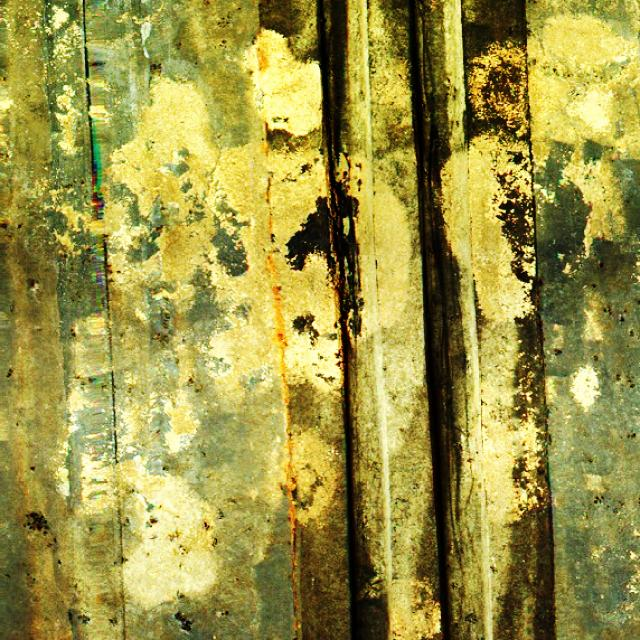Corrosion: (284, 408, 298, 554), (273, 285, 289, 406), (292, 558, 299, 631), (267, 250, 277, 279), (258, 48, 269, 71), (264, 177, 273, 205), (258, 143, 267, 155), (269, 215, 272, 234)
